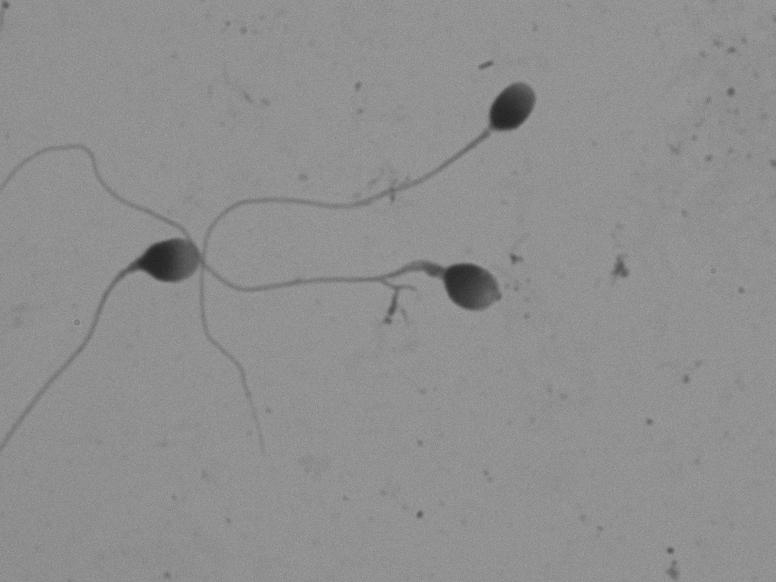Abnormal: (25, 192, 228, 470), (215, 236, 524, 361)
Normal: (200, 64, 563, 249)
